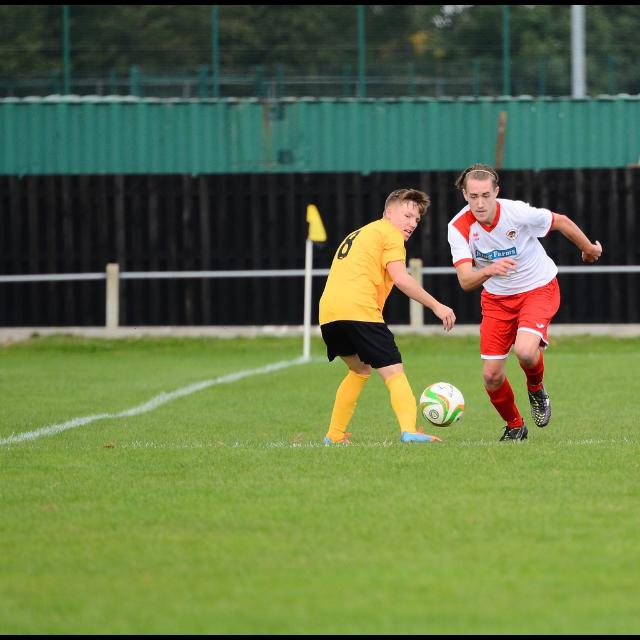Football: (416, 379, 462, 427)
